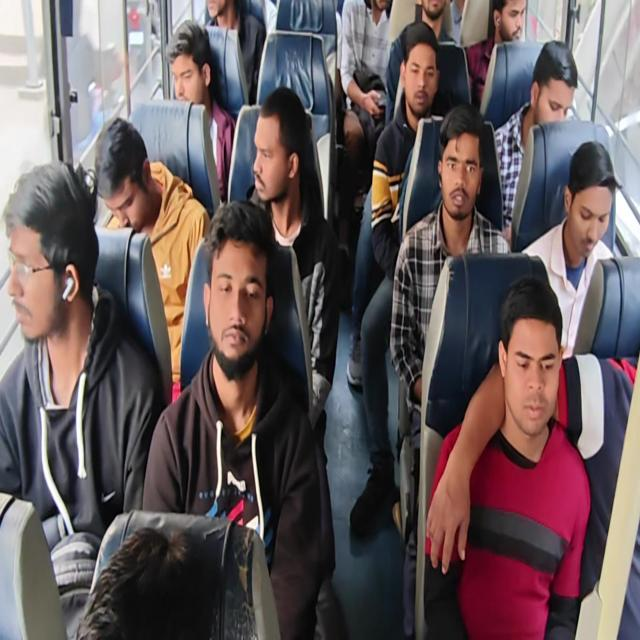person: (66, 511, 263, 631), (5, 142, 94, 342), (195, 190, 268, 366), (496, 278, 554, 432), (244, 80, 307, 204), (431, 91, 489, 225), (87, 118, 154, 232), (566, 139, 610, 265), (396, 19, 449, 118), (162, 17, 214, 111), (533, 28, 572, 136), (490, 0, 527, 51), (204, 1, 235, 22), (418, 0, 448, 15), (371, 0, 391, 16)
